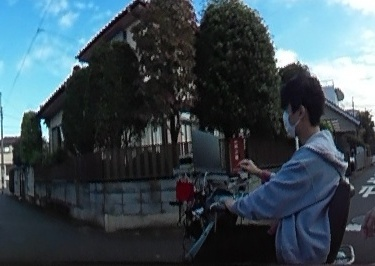person: (235, 76, 346, 266)
